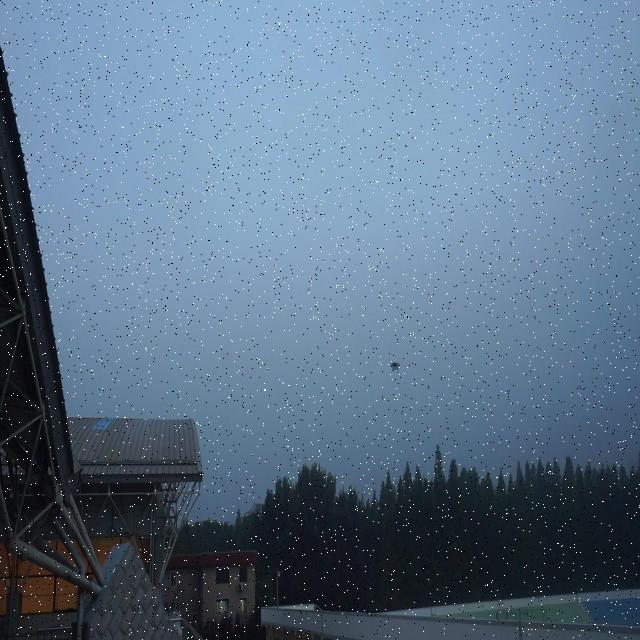UAV: (390, 362, 401, 372)
